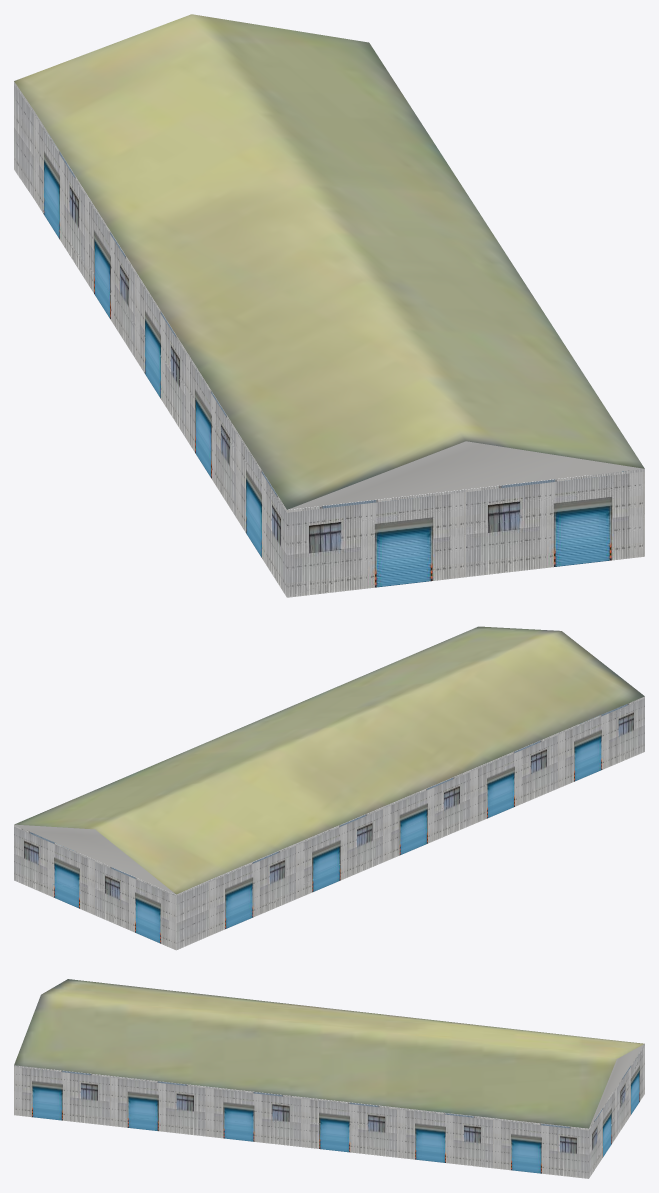
The picture shows the model from 3 angles, top to bottom: view 1: azimuth 30°, elevation 25°; view 2: azimuth 150°, elevation 25°; view 3: azimuth 270°, elevation 25°; orthographic projection. The views are drawn at different scales.
Visible parts, largest first — view 1: SketchUp (×4); view 2: SketchUp (×4); view 3: SketchUp (×4).
Part boxes in pixels (x1=…): SketchUp (×4): x1=14, y1=14, x2=644, y2=597; SketchUp (×4): x1=14, y1=626, x2=644, y2=950; SketchUp (×4): x1=14, y1=979, x2=644, y2=1178.
Bounding box in the file's own units: 864 × 1536 × 208.
Materials: 6 (5 with a texture image).
